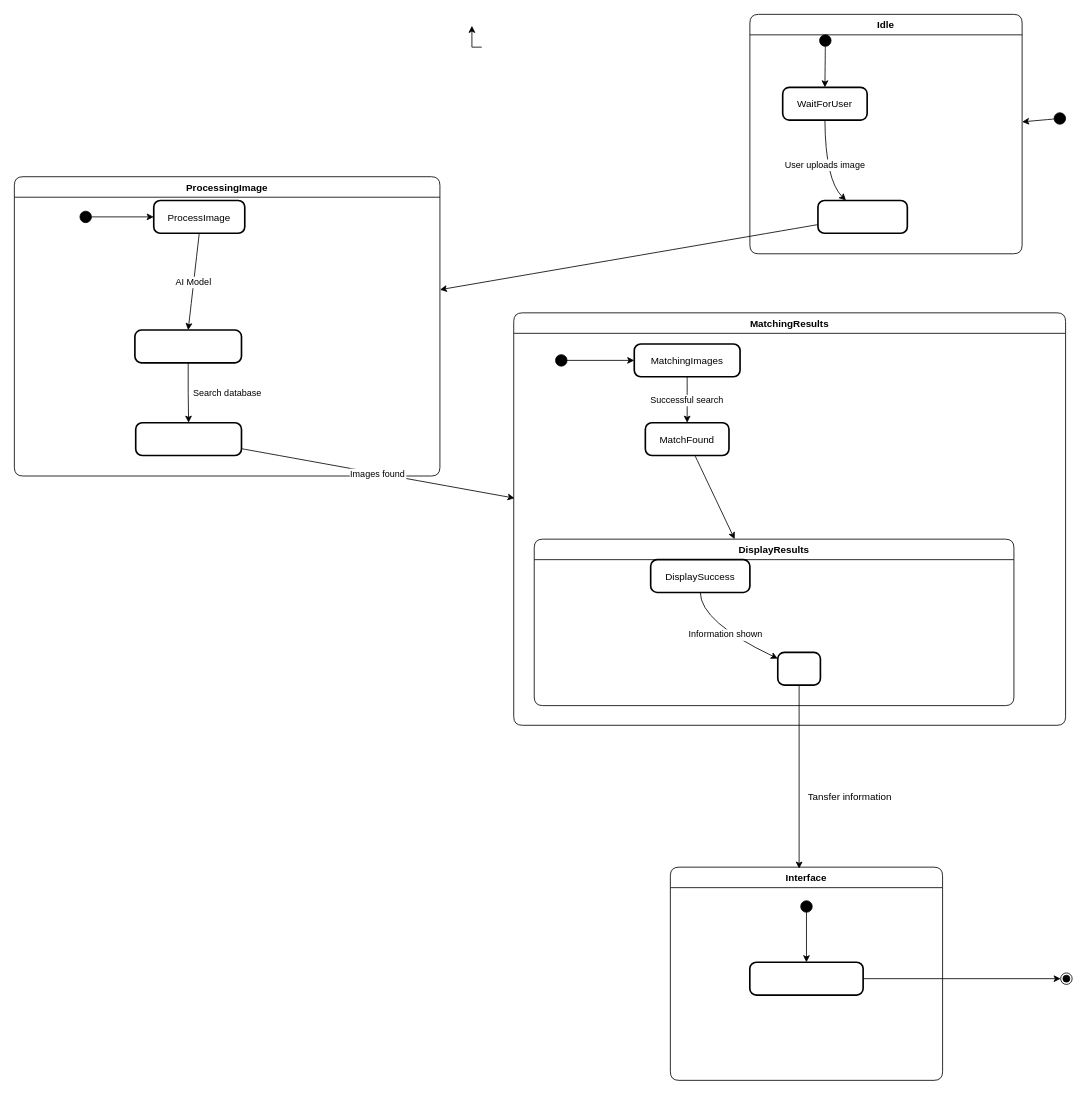
Image size: 1087x1095. Some labels were removed from this diagram. The shapes that lost their labels are listed below. From the top down, each one's centre as x and y in pixels, then its label:
At point (862, 216): "UploadImage".
At point (188, 346): "ExtractFeatures".
At point (188, 438): "SearchDatabase".
At point (799, 668): "Done".
At point (806, 978): "DisplayInformation".
